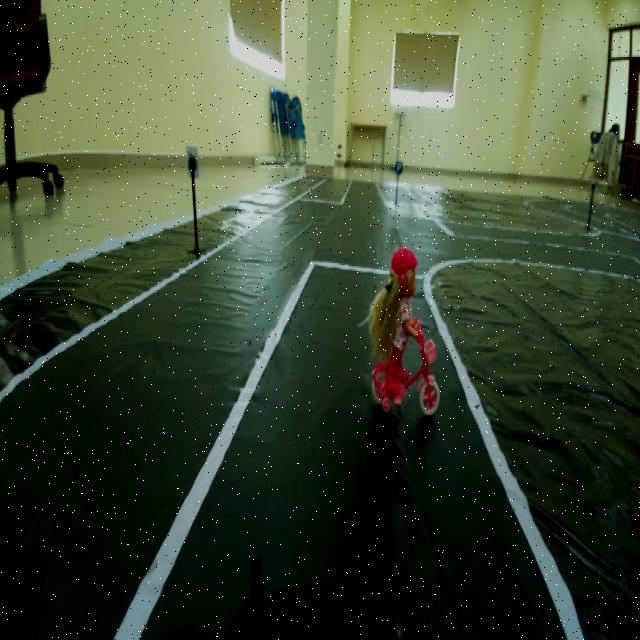pedestrian: (364, 246, 443, 408)
